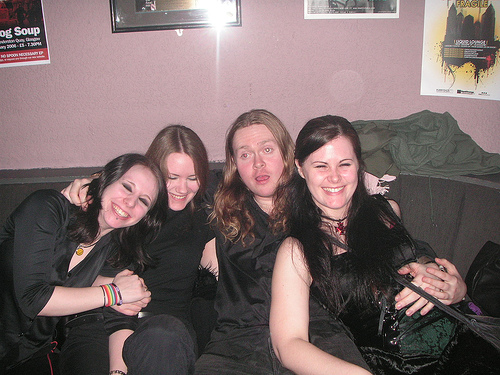without_mask: (292, 121, 375, 213), (220, 112, 298, 203), (90, 153, 164, 239), (140, 126, 212, 213)
